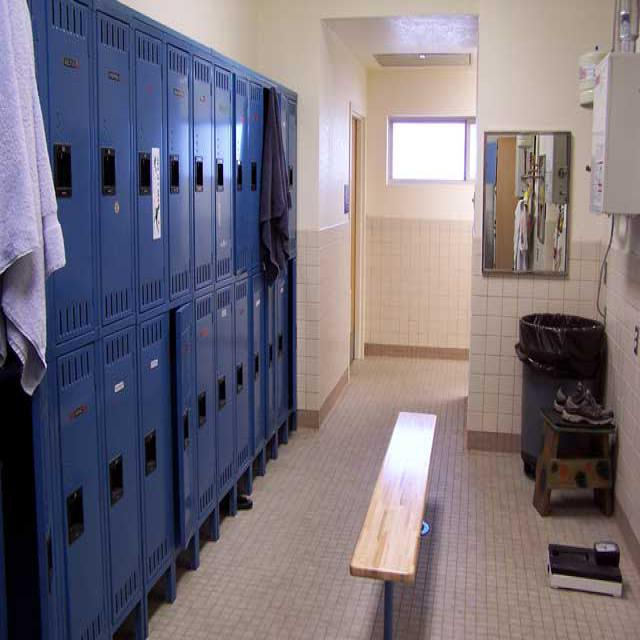2001: (387, 113, 468, 177)
bench crop: (348, 409, 436, 633)
ceiling beam: (320, 15, 478, 67)
door bars: (350, 111, 362, 369)
floor -X: (140, 353, 638, 637)
mirror crop: (481, 131, 569, 272)
scales: (547, 539, 621, 597)
stool crop: (527, 404, 614, 515)
towel basket: (1, 0, 64, 393), (259, 87, 291, 281)
trainer: (550, 381, 613, 425)
trash can: (519, 309, 602, 473)
wall clock: (247, 0, 591, 453), (364, 64, 475, 359), (586, 0, 638, 572), (315, 13, 365, 427), (118, 0, 250, 65)
